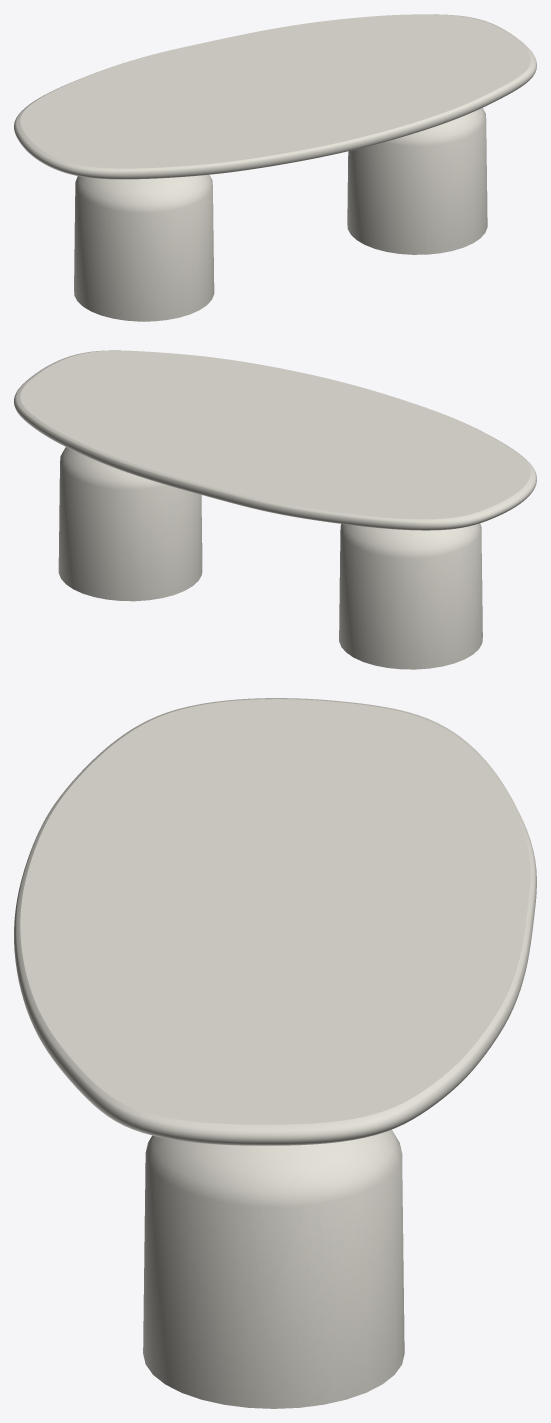
Rendered from pale_danish_round_tornado.glb.
The picture shows the model from 3 angles, top to bottom: view 1: azimuth 30°, elevation 25°; view 2: azimuth 150°, elevation 25°; view 3: azimuth 270°, elevation 25°; orthographic projection. The views are drawn at different scales.
Visible parts, largest first — view 1: round_danish, tornado; view 2: round_danish, tornado; view 3: round_danish, tornado.
Boxes of the visible parts, bbox=[...] form: round_danish: bbox=[14, 14, 536, 179]; tornado: bbox=[74, 108, 487, 321]; round_danish: bbox=[14, 350, 536, 530]; tornado: bbox=[58, 447, 482, 669]; round_danish: bbox=[14, 698, 536, 1145]; tornado: bbox=[143, 1129, 404, 1408].
Bounding box in the file's own units: 7.5 × 2.51 × 3.8.
Materials: 1 (1 with a texture image).
